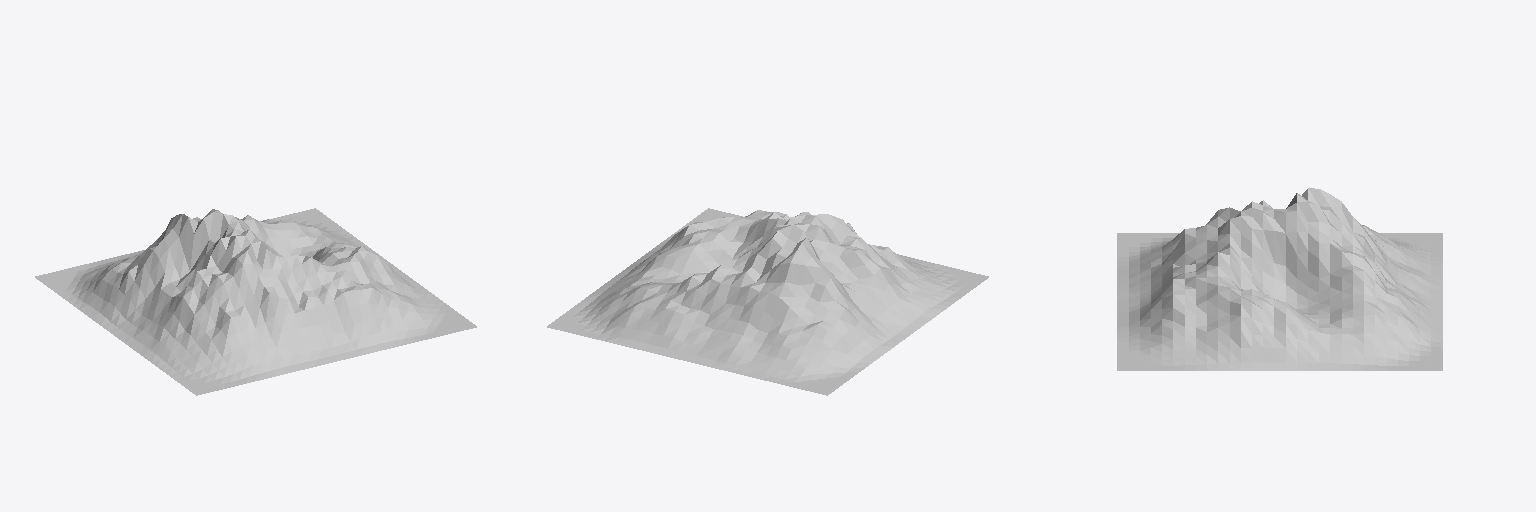
The model's file is landscape.obj.
3 views of the same model, side by side, from view 1: azimuth 30°, elevation 25°; view 2: azimuth 150°, elevation 25°; view 3: azimuth 270°, elevation 25° (orthographic).
Visible parts, largest first — view 1: Landscape; view 2: Landscape; view 3: Landscape.
Part boxes in pixels (x1,y1,x2,y2): Landscape: (35, 208, 476, 395); Landscape: (547, 208, 988, 395); Landscape: (1117, 188, 1442, 370).
Bounding box in the file's own units: 30 × 9.36 × 30.